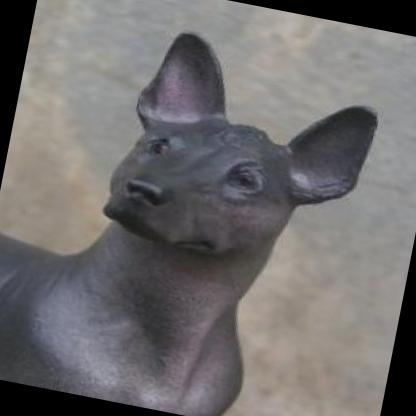Mexican_hairless: (0, 3, 385, 416)
